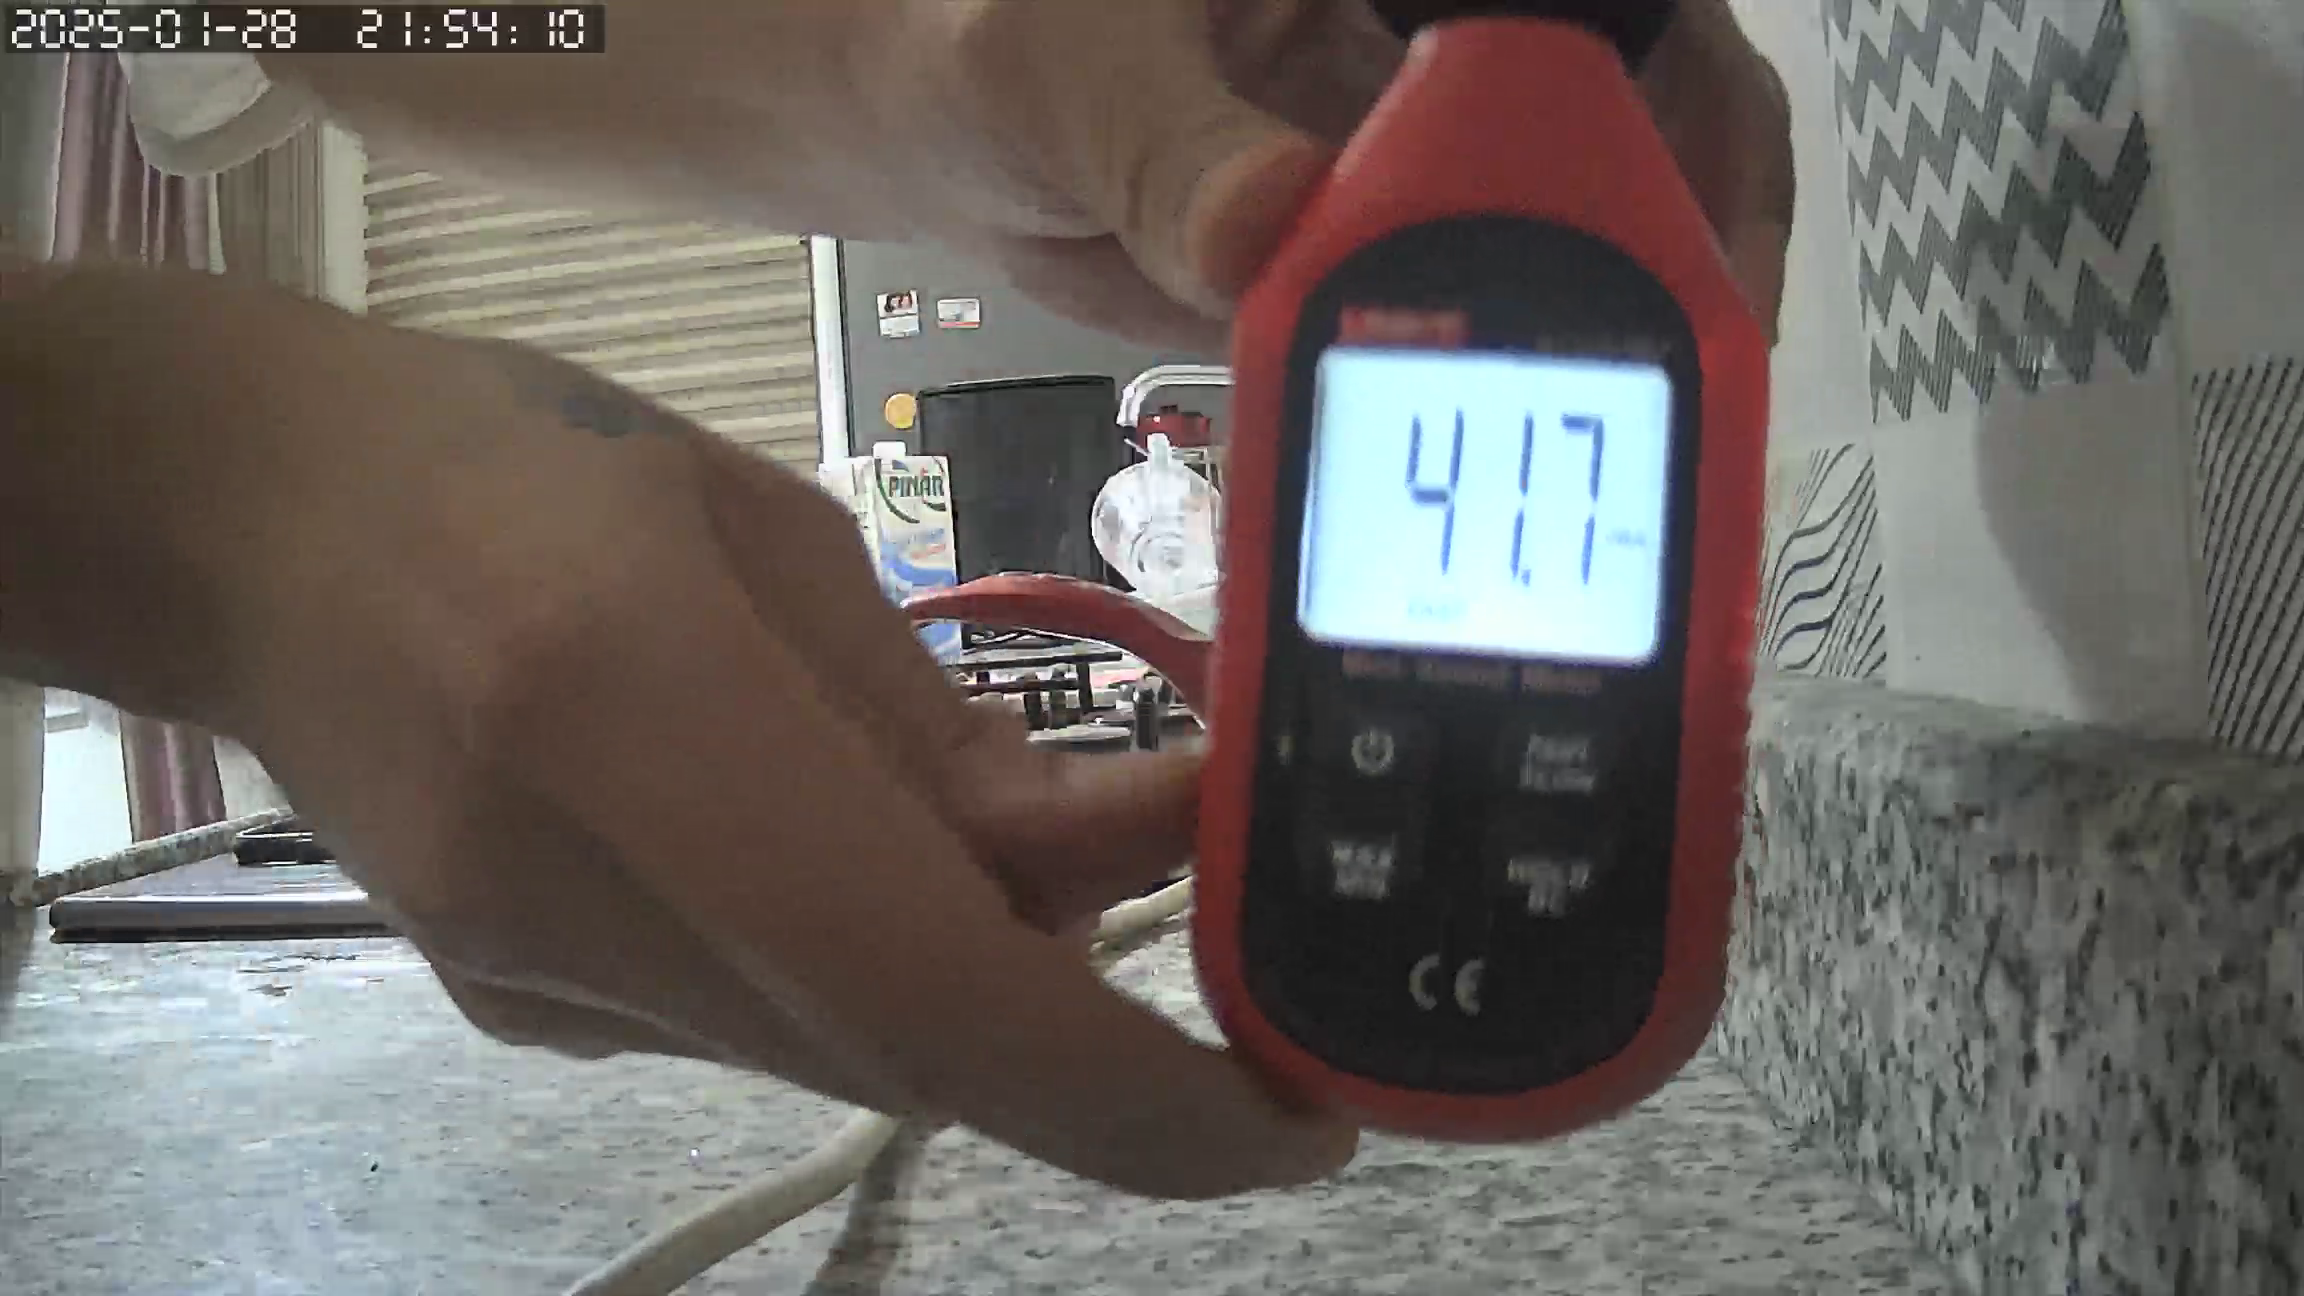screen: (1302, 339, 1671, 669)
